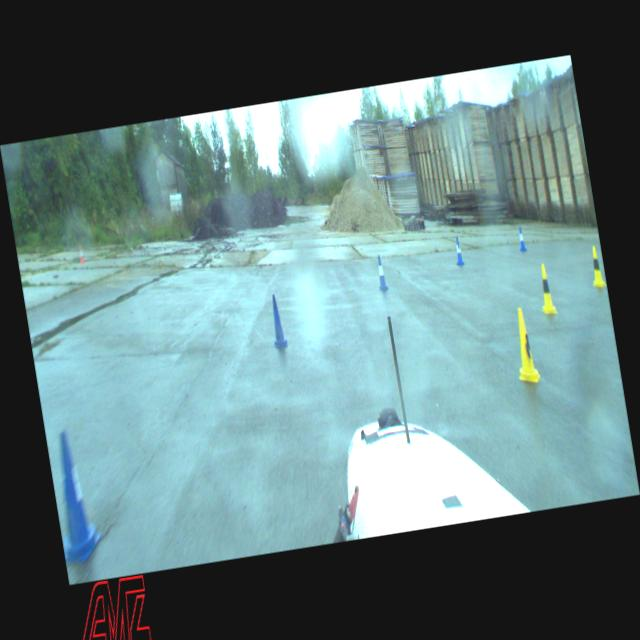blue_cone: (46, 429, 106, 565), (267, 293, 288, 347), (375, 255, 388, 291), (452, 236, 464, 266), (516, 226, 526, 252)
orange_cone: (79, 246, 85, 262)
yellow_cone: (509, 306, 541, 384), (536, 263, 558, 315), (588, 245, 606, 288)
